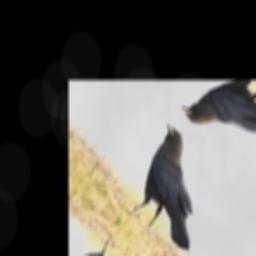Crow: (112, 120, 236, 256)
